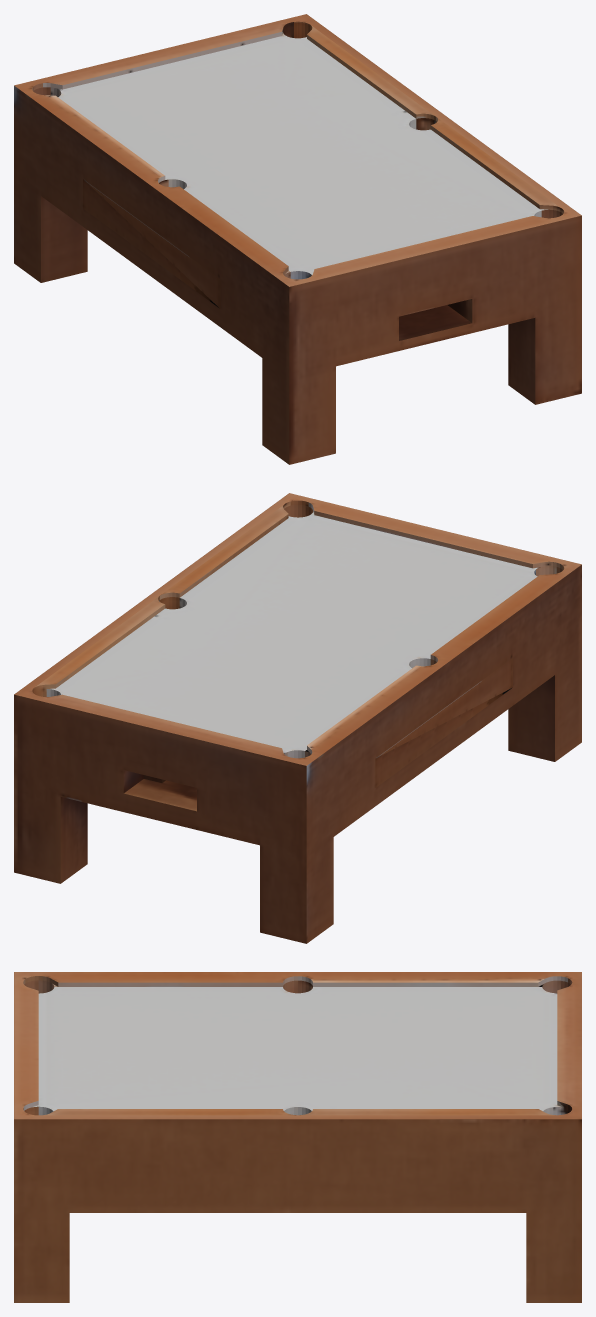
The picture shows the model from 3 angles, top to bottom: view 1: azimuth 30°, elevation 25°; view 2: azimuth 150°, elevation 25°; view 3: azimuth 270°, elevation 25°; orthographic projection. The views are drawn at different scales.
Parts seen in each view (by area): view 1: Node; view 2: Node; view 3: Node.
Part boxes in pixels (bbox=[...]): Node: bbox=[14, 14, 581, 464]; Node: bbox=[14, 493, 581, 943]; Node: bbox=[14, 972, 581, 1302].
Size of the model in its own units: 0.4295 by 0.2496 by 0.7.
Materials: 1 (1 with a texture image).
